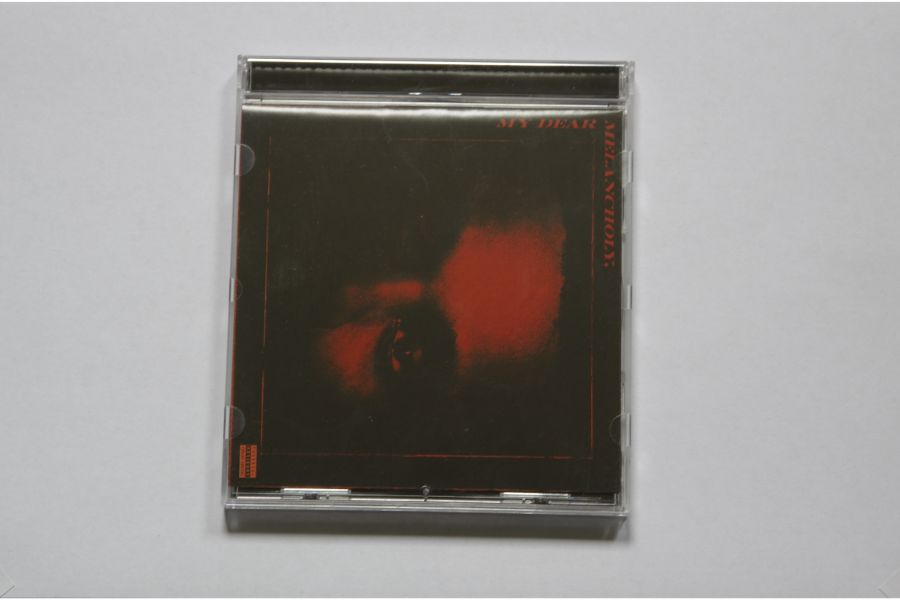album: (218, 52, 635, 521)
